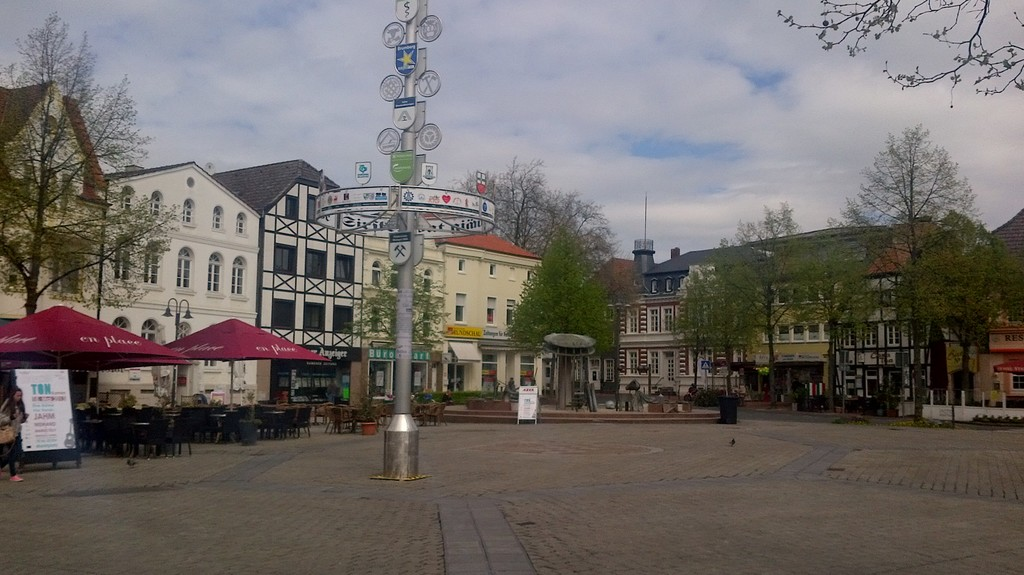Tree: (0, 7, 181, 320), (823, 119, 984, 397), (696, 201, 858, 400), (895, 209, 1023, 425), (778, 0, 1023, 108), (503, 227, 619, 409), (440, 150, 616, 268), (775, 224, 885, 407), (659, 233, 769, 395), (332, 258, 453, 352)
